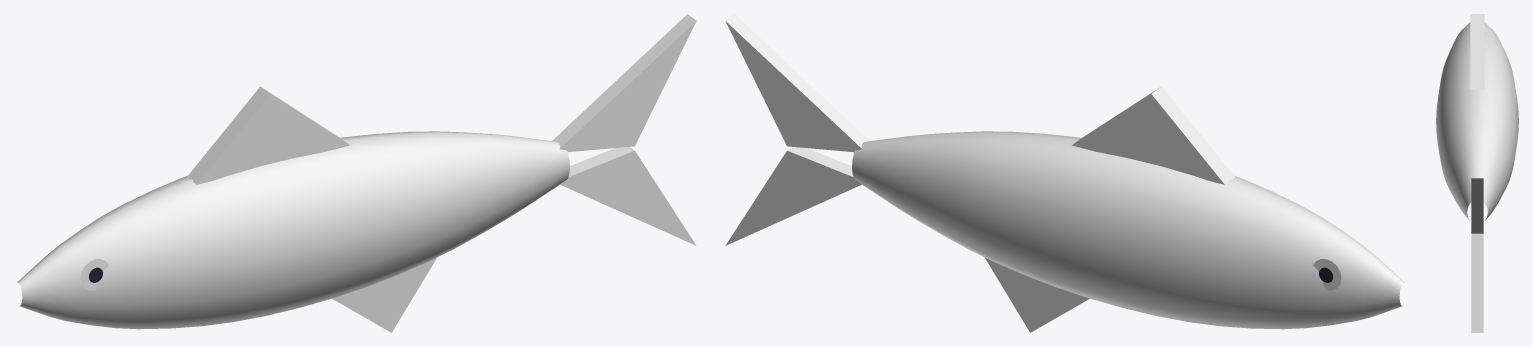
The model's file is stream.glb.
3 views of the same model, side by side, from view 1: azimuth 30°, elevation 25°; view 2: azimuth 150°, elevation 25°; view 3: azimuth 270°, elevation 25° (orthographic). The views are drawn at different scales.
Visible parts, largest first — view 1: body, tail-pivot; view 2: body, tail-pivot; view 3: body, tail-pivot.
Part boxes in pixels (x1,y1,x2,y2): body: [17, 86, 569, 332]; tail-pivot: [552, 14, 696, 245]; body: [852, 86, 1404, 332]; tail-pivot: [725, 14, 869, 245]; body: [1436, 14, 1518, 220]; tail-pivot: [1471, 178, 1483, 332].
Size of the model in its own units: 3.38 by 1.29 by 0.5248.
2 materials, 1 textured.
